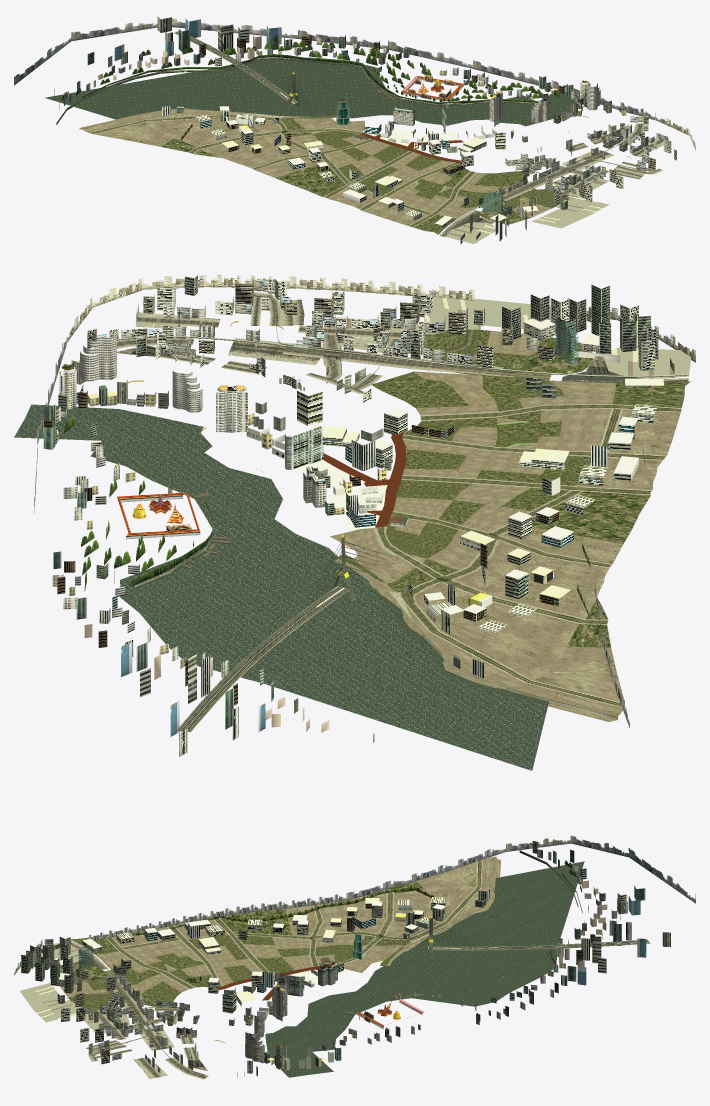
Rendered from track-AS_C1_V2_env.glb.
The picture shows the model from 3 angles, top to bottom: view 1: azimuth 30°, elevation 25°; view 2: azimuth 150°, elevation 25°; view 3: azimuth 270°, elevation 25°; orthographic projection. The views are drawn at different scales.
Parts seen in each view (by area): view 1: AS_C1_V2_env; view 2: AS_C1_V2_env; view 3: AS_C1_V2_env.
Part boxes in pixels (left/top/right/bottom): AS_C1_V2_env: left=14, top=16, right=695, bottom=244; AS_C1_V2_env: left=14, top=274, right=695, bottom=770; AS_C1_V2_env: left=14, top=835, right=695, bottom=1079.
Bounding box in the file's own units: 3241 × 248 × 3755.
18 materials, 17 textured.
